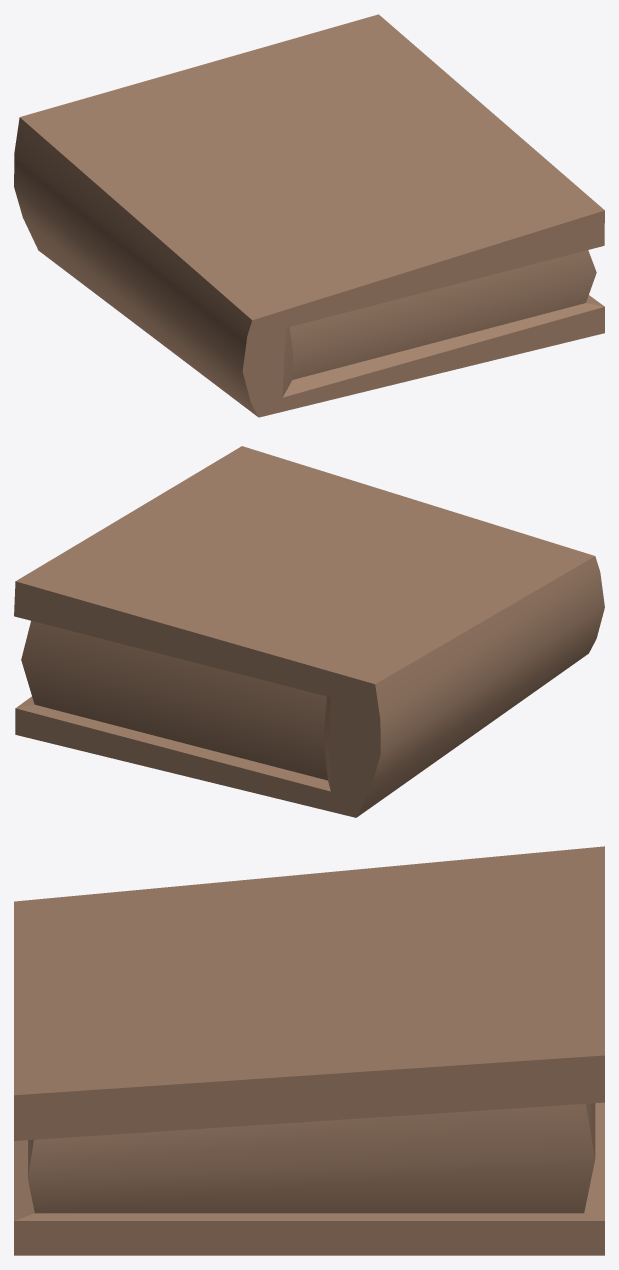
Rendered from mesh_libro1.fbx.
3 renders of one model, top to bottom at view 1: azimuth 30°, elevation 25°; view 2: azimuth 150°, elevation 25°; view 3: azimuth 270°, elevation 25°, orthographic. The views are drawn at different scales.
Visible parts, largest first — view 1: mesh_libro1; view 2: mesh_libro1; view 3: mesh_libro1.
Part boxes in pixels (left/top/right/bottom): mesh_libro1: left=14, top=14, right=604, bottom=417; mesh_libro1: left=14, top=446, right=604, bottom=817; mesh_libro1: left=14, top=846, right=604, bottom=1255.
Bounding box in the file's own units: 42.96 × 17.17 × 45.96.
